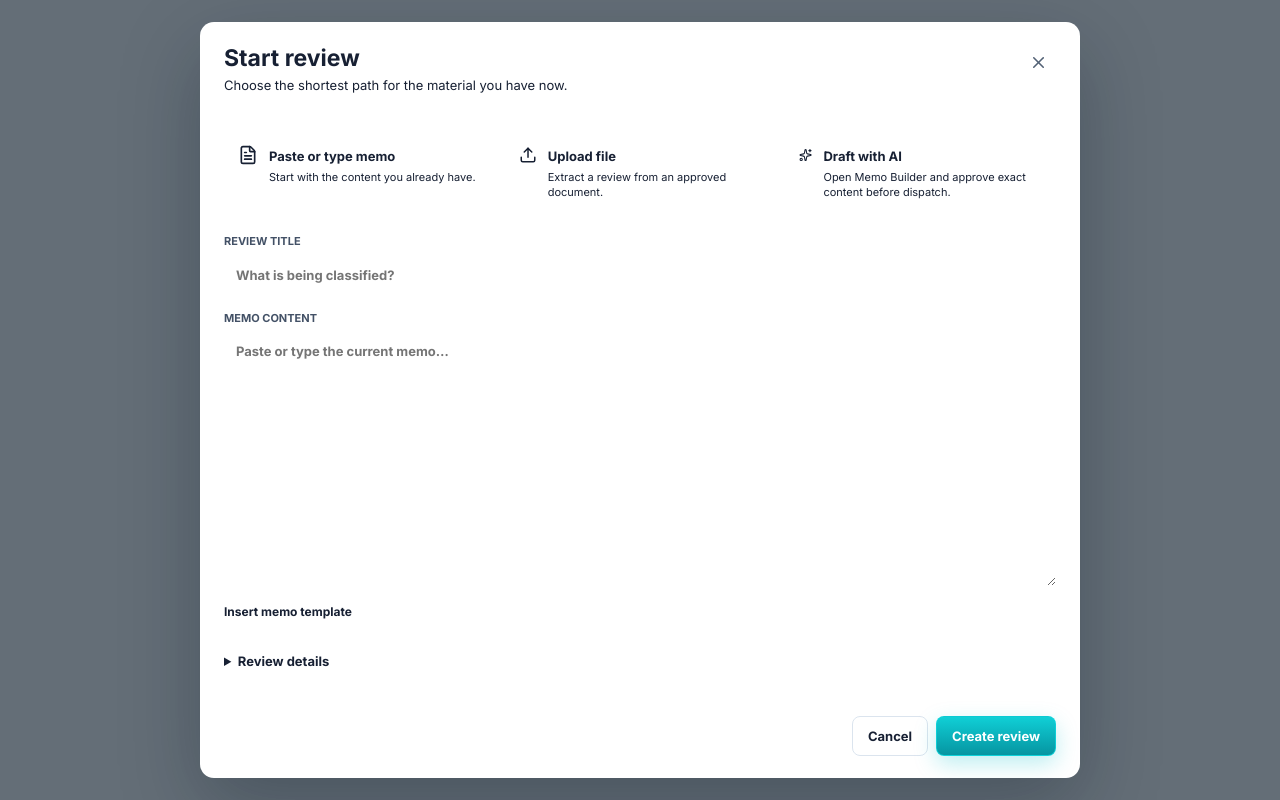
Test: ReviewStartDialog › requires a data class before file selection
Click the tab "Upload file Extract a review from an approved document.".
click(640, 172)  # box [505, 131, 775, 214]
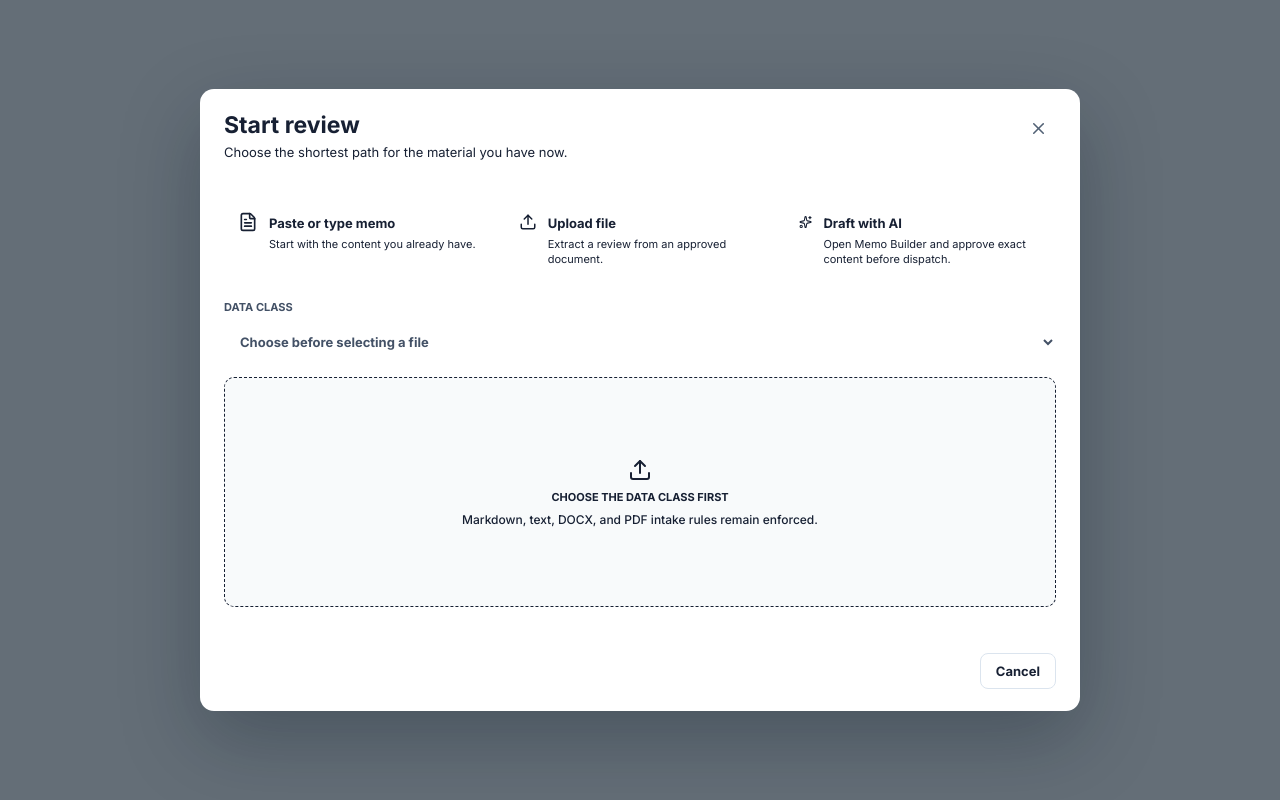
Expected: the file field labelled "Choose the data class first" is disabled, [224, 377, 1056, 607]
Select "CUI" in the dropdown labelled "Data class" at (640, 342), box [224, 321, 1056, 363]
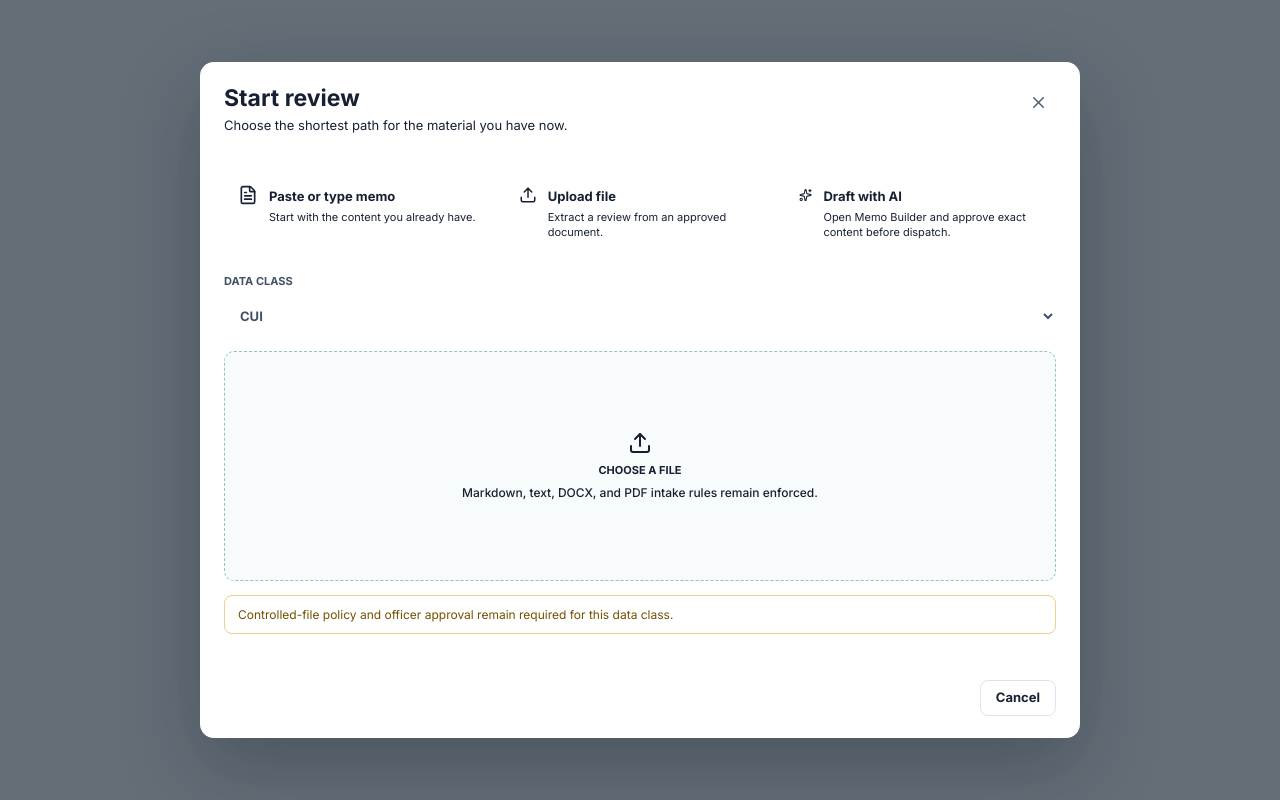
Expected: the file field labelled "Choose a file" is enabled, [224, 351, 1056, 581]
Expected: the text "Controlled-file policy" is shown, [238, 607, 673, 622]
